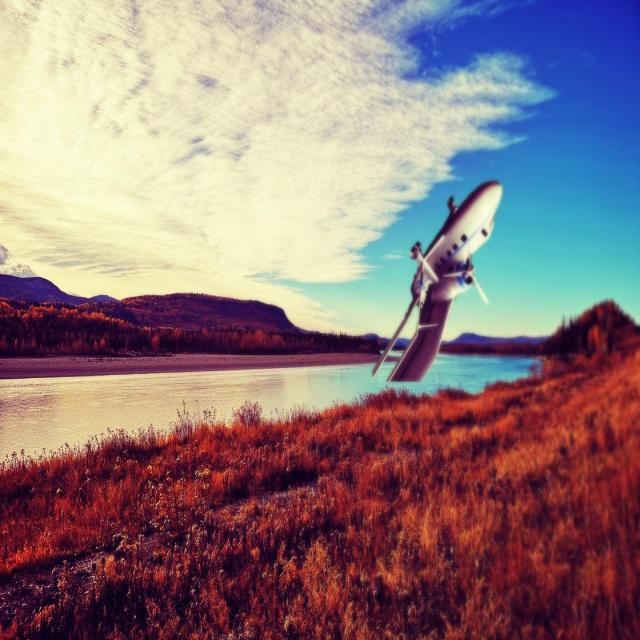airplane: (370, 178, 502, 382)
